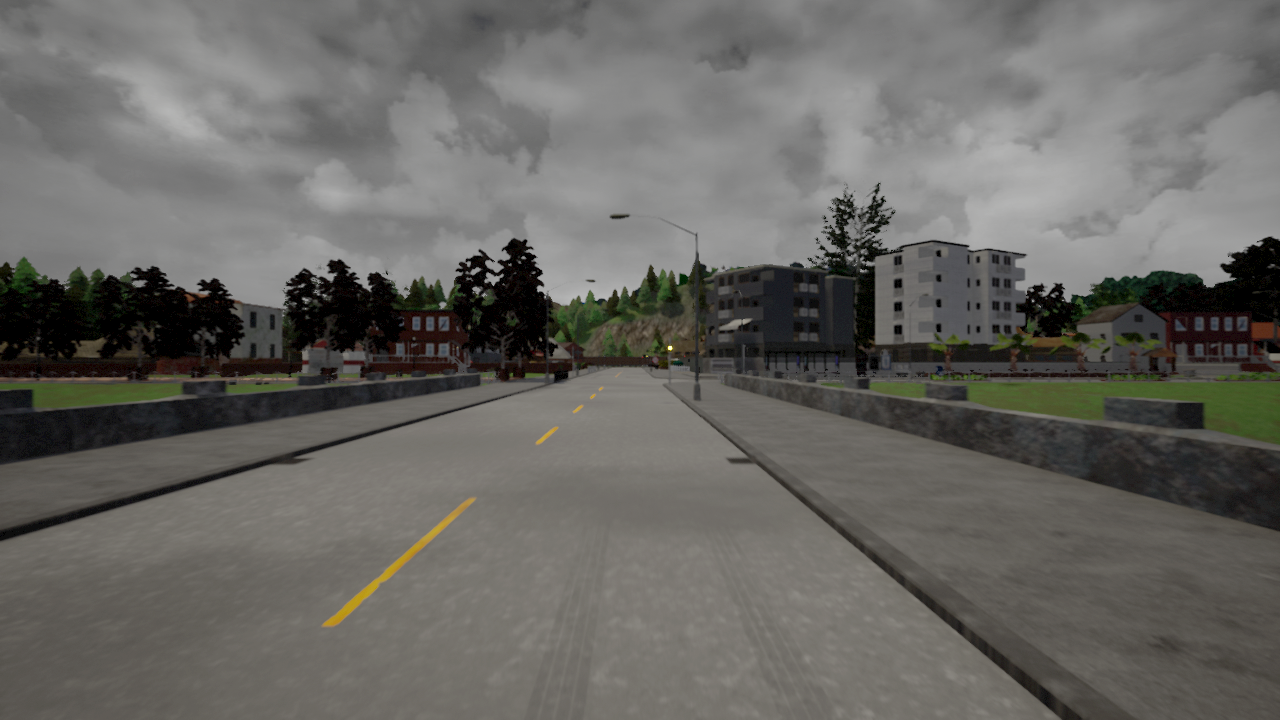yellow: (667, 340, 673, 353)
